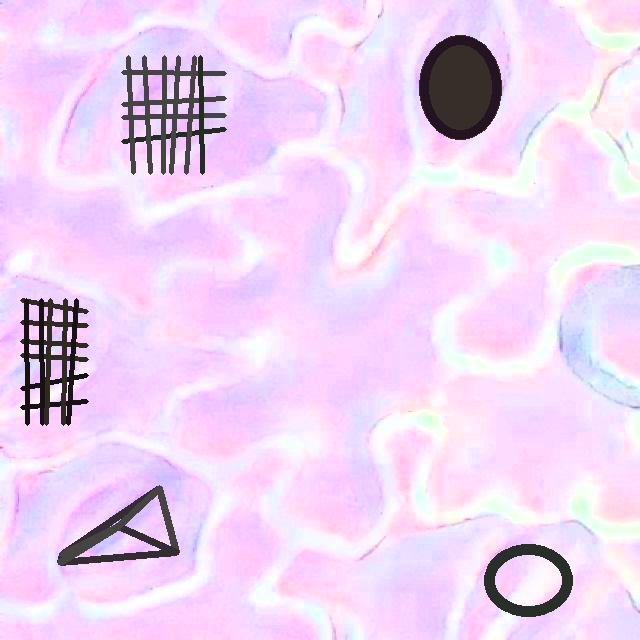open: (121, 55, 226, 174), (59, 486, 178, 565), (20, 298, 88, 425), (419, 35, 501, 139), (484, 544, 572, 617)
